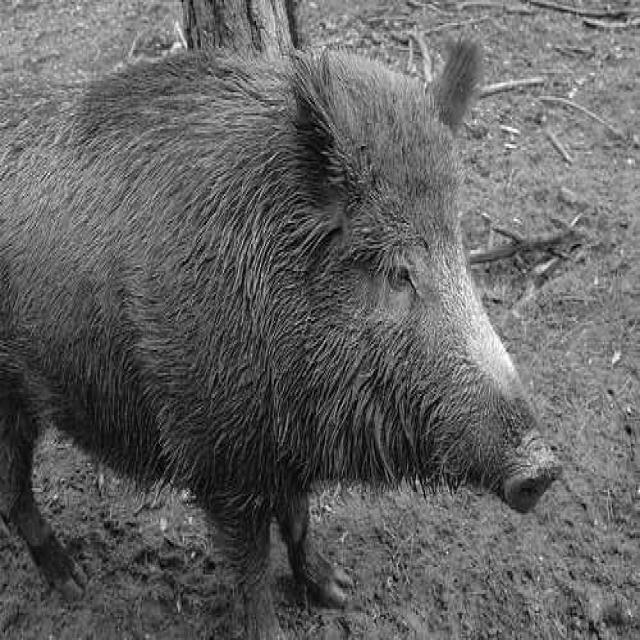boar: (1, 31, 556, 637)
